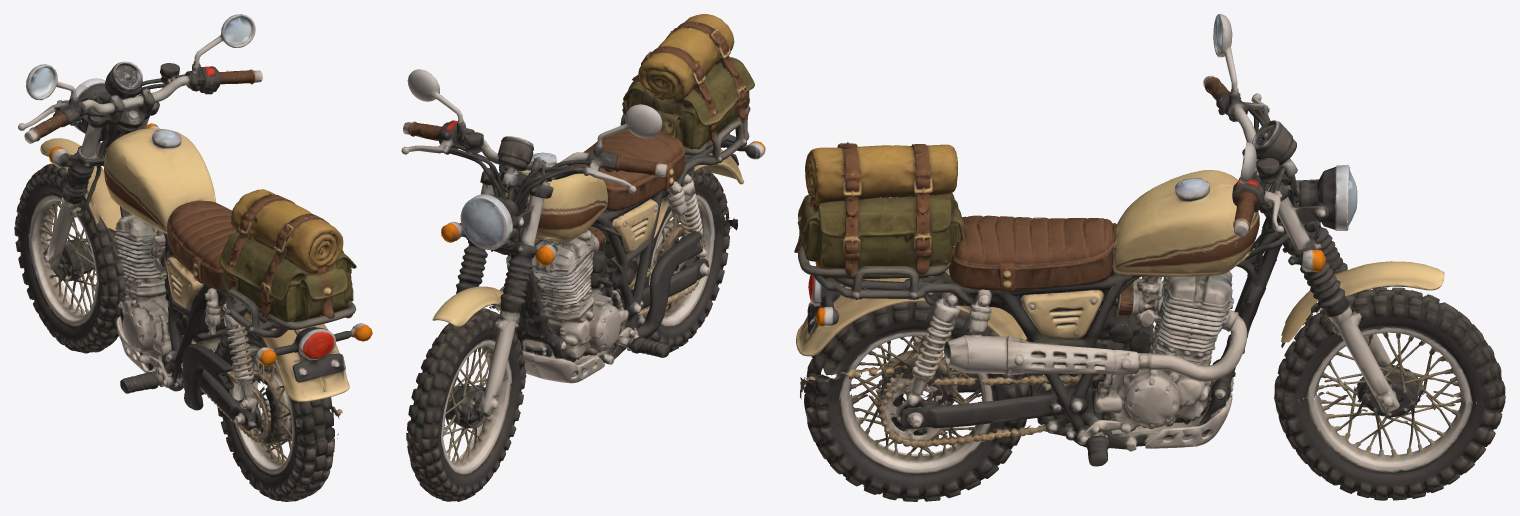
Rendered from bike.glb.
The picture shows the model from 3 angles, left to right: view 1: azimuth 30°, elevation 25°; view 2: azimuth 150°, elevation 25°; view 3: azimuth 270°, elevation 25°; orthographic projection. The views are drawn at different scales.
Visible parts, largest first — view 1: body, wheelF, wheelR; view 2: body, wheelF, wheelR; view 3: body, wheelF, wheelR.
Part boxes in pixels (box(x1,y1,x2,y2)): body: box(18, 14, 372, 443); wheelF: box(14, 163, 126, 353); wheelR: box(216, 327, 342, 501); body: box(401, 14, 765, 414); wheelF: box(406, 308, 526, 501); wheelR: box(634, 167, 737, 352); body: box(794, 14, 1444, 466); wheelF: box(1274, 287, 1505, 500); wheelR: box(800, 302, 1032, 501).
Bounding box in the file's own units: 0.9226 × 1.28 × 1.96.
1 material, 1 textured.
